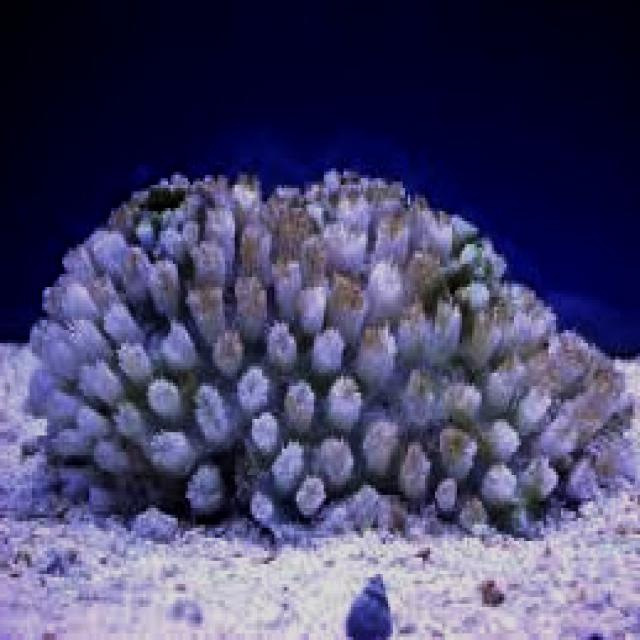Coral: (27, 168, 640, 551)
